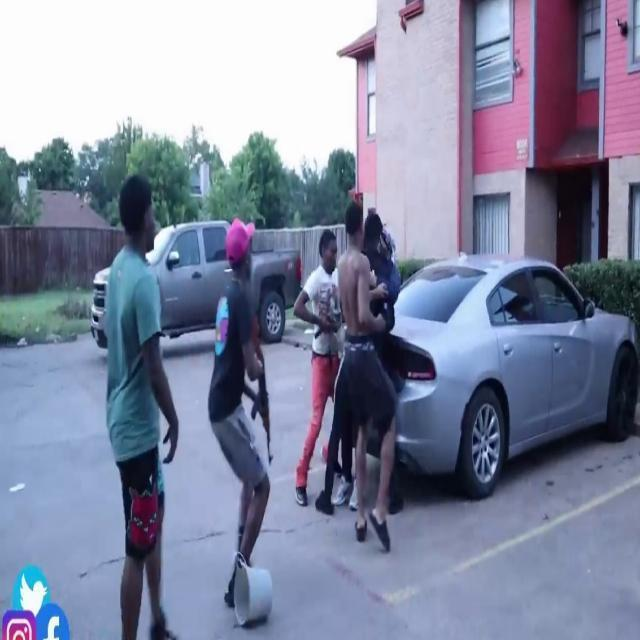Rifle: (244, 321, 279, 489)
